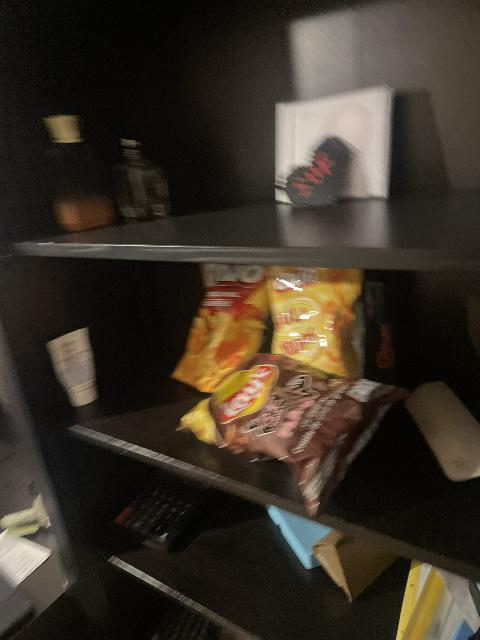Chio Cascaval 125g: (169, 268, 273, 394)
Chio Hula Hoops Cheese 70g: (265, 268, 366, 381)
Lays Beef Grilled Ribs 125g: (183, 356, 408, 515)
